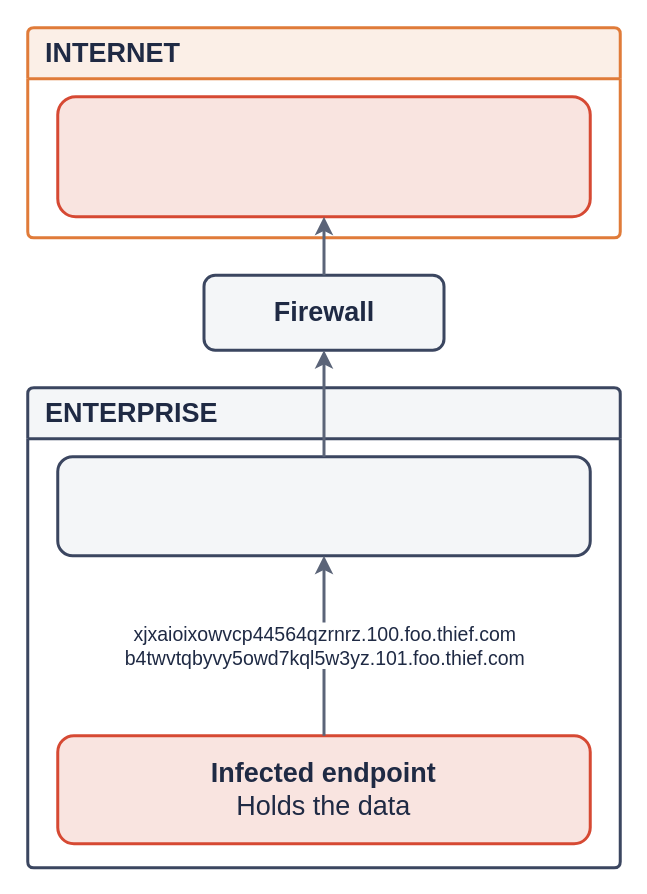
This 647x894 diagram has some shape labels left out. Each missing label, with the centre of its shape:
"Attacker’s DNS server Reassembles the data" belongs at [323,156].
"DNS server" belongs at [323,505].
